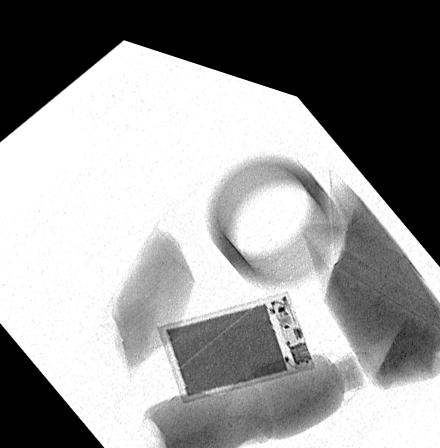Powerbank: (155, 272, 315, 393)
